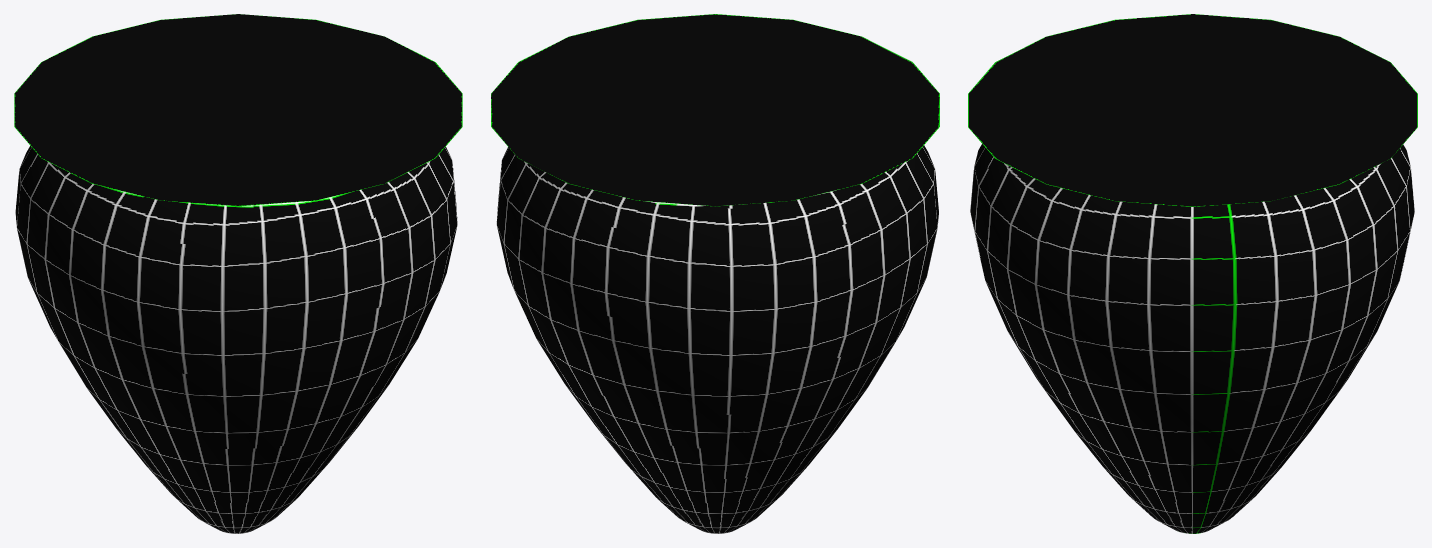
File: Strawberry.fbx
3 views of the same model, side by side, from view 1: azimuth 30°, elevation 25°; view 2: azimuth 150°, elevation 25°; view 3: azimuth 270°, elevation 25° (orthographic).
Parts seen in each view (by area): view 1: Strawberry; view 2: Strawberry; view 3: Strawberry.
Boxes of the visible parts, bbox=[...] form: Strawberry: bbox=[14, 14, 462, 533]; Strawberry: bbox=[491, 14, 939, 533]; Strawberry: bbox=[968, 14, 1417, 533].
Size of the model in its own units: 42.15 by 42.82 by 41.51.
